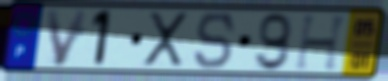1: (88, 9, 115, 70)
9: (254, 11, 294, 72)
H: (293, 14, 351, 73)
S: (193, 10, 238, 71)
V: (43, 8, 92, 69)
X: (142, 11, 191, 69)
